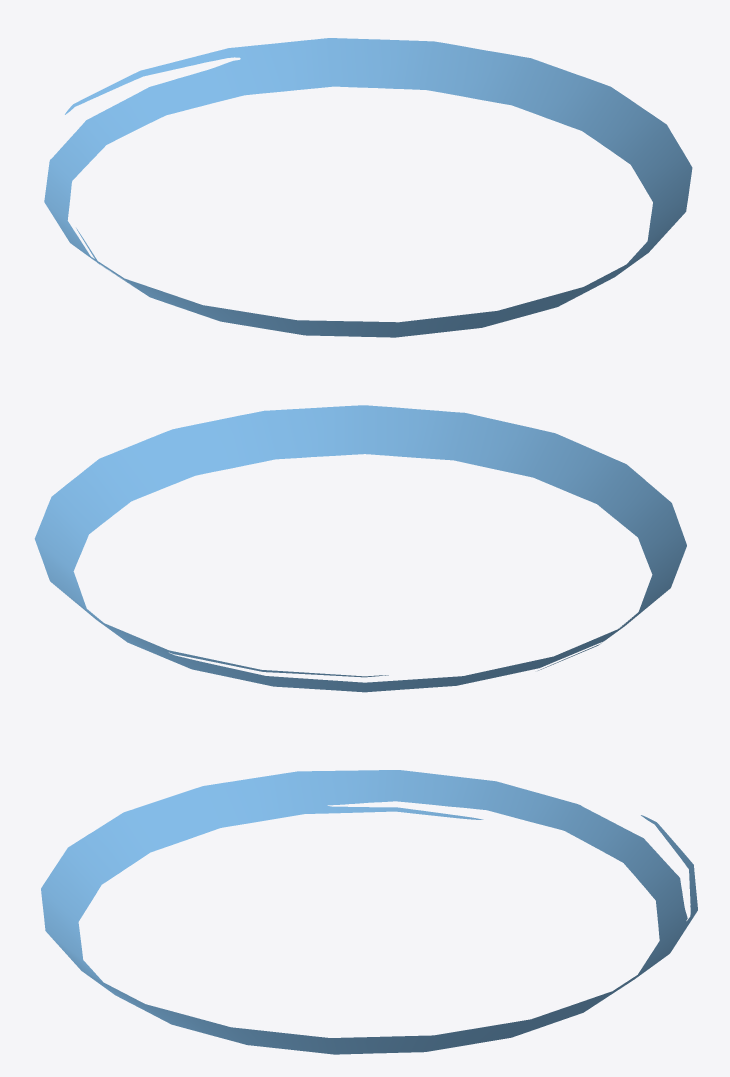
Rendered from standby_ground.fbx.
The picture shows the model from 3 angles, top to bottom: view 1: azimuth 30°, elevation 25°; view 2: azimuth 150°, elevation 25°; view 3: azimuth 270°, elevation 25°; orthographic projection.
Parts seen in each view (by area): view 1: flash:pCylinder1; view 2: flash:pCylinder1; view 3: flash:pCylinder1.
Part boxes in pixels (x1=…): flash:pCylinder1: x1=44, y1=38, x2=692, y2=337; flash:pCylinder1: x1=34, y1=405, x2=686, y2=692; flash:pCylinder1: x1=41, y1=770, x2=697, y2=1054.
Bounding box in the file's own units: 220 × 23.76 × 220.
